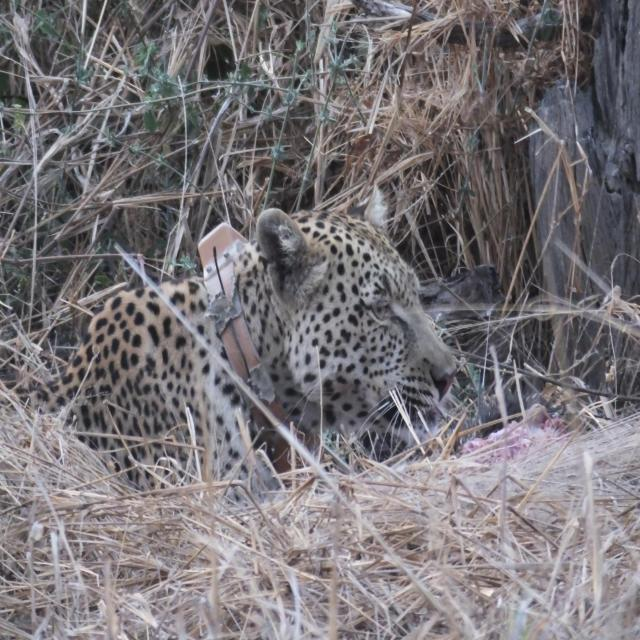Leopard: (16, 193, 452, 495)
